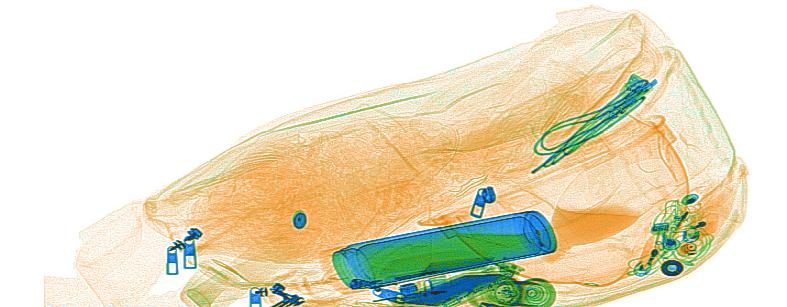lighter: (634, 227, 665, 275), (680, 207, 718, 243)
